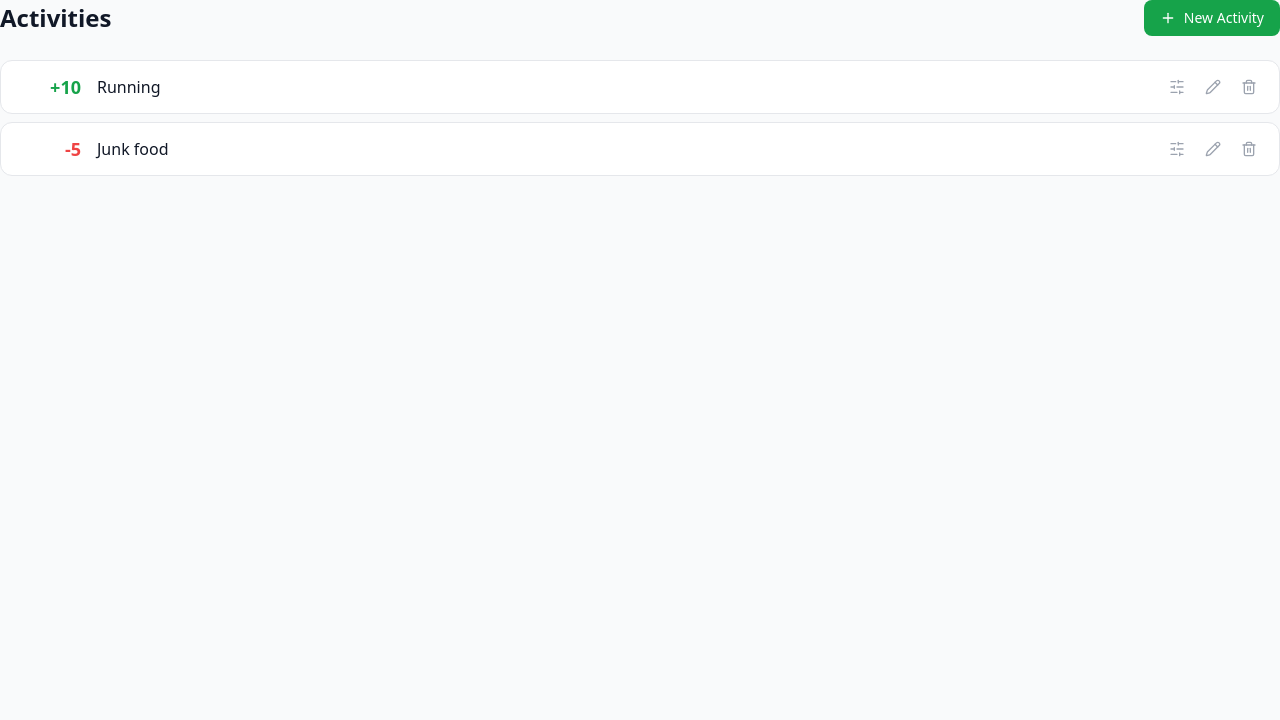
opens edit modal when edit button clicked
Expected: the text "Running" is shown, x1=97 y1=76 x2=160 y2=98
What coordinates should you click on to do the following:
click the 3rd button
I would click on:
 (1213, 87)
Its box is x1=1199 y1=73 x2=1227 y2=101.
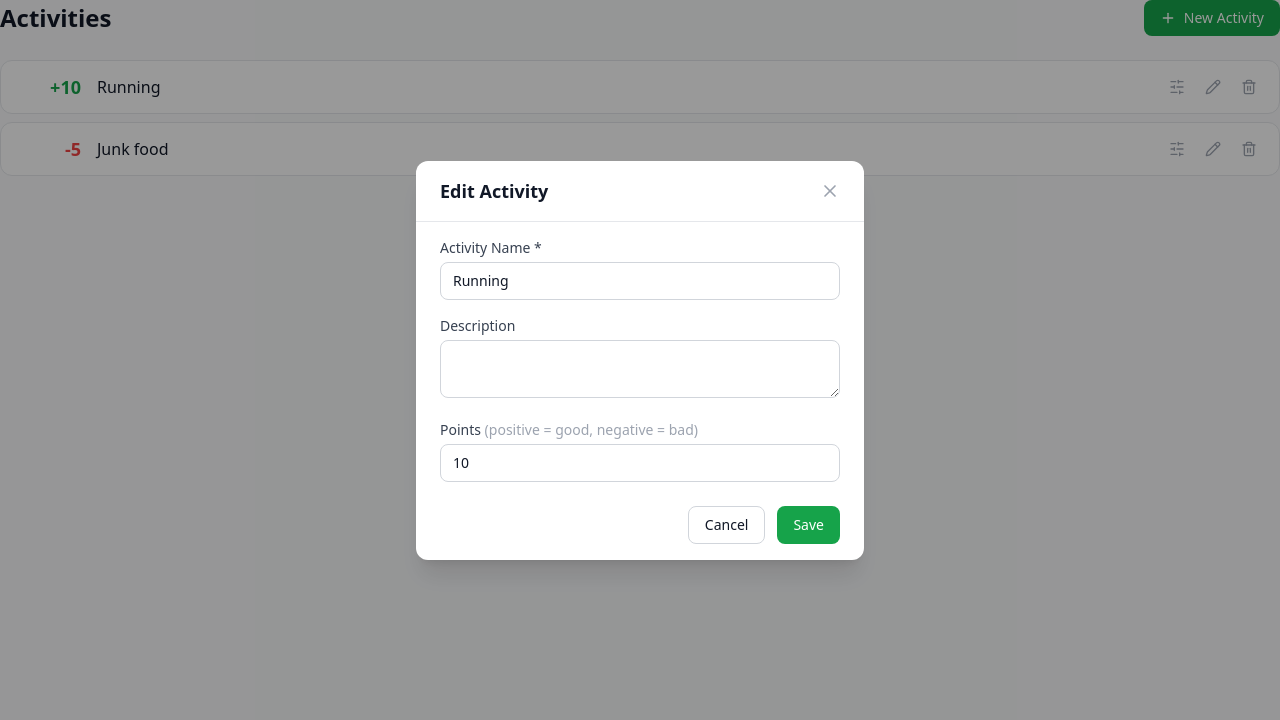
Now the heading "Edit Activity" is shown, box x1=440 y1=176 x2=548 y2=204
